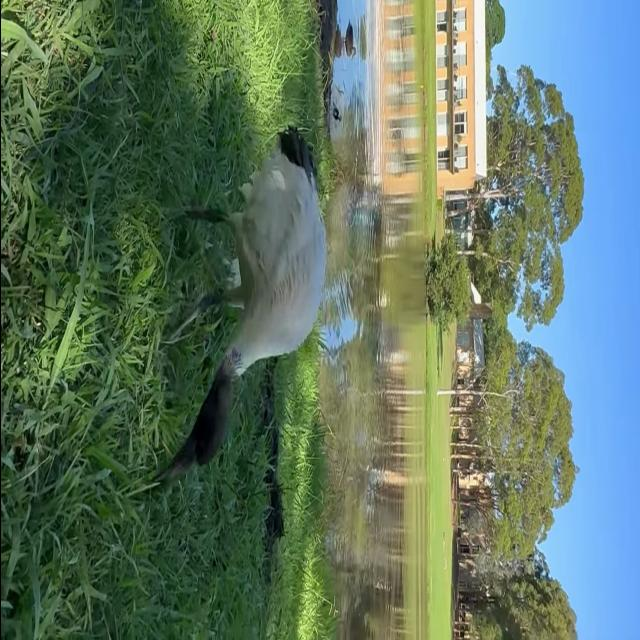Birds-Ibis: (138, 123, 330, 508)
Birds-Other: (338, 17, 358, 62), (328, 101, 342, 126)
